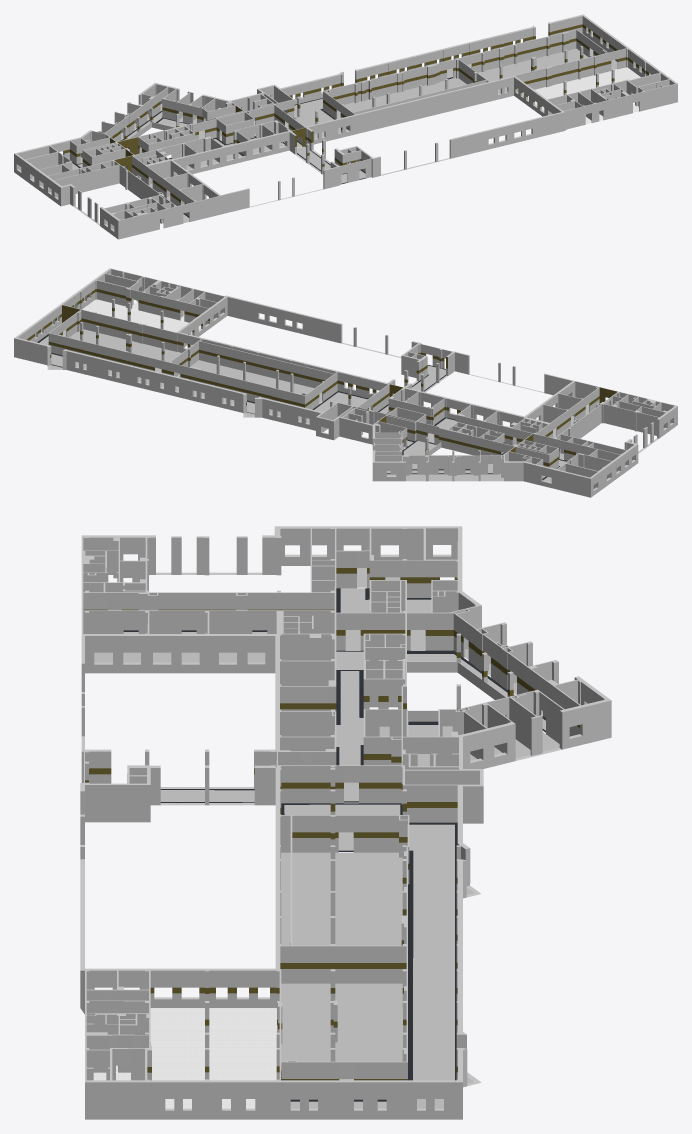
File: Hall_4thFloor.fbx
The picture shows the model from 3 angles, top to bottom: view 1: azimuth 30°, elevation 25°; view 2: azimuth 150°, elevation 25°; view 3: azimuth 270°, elevation 25°; orthographic projection. The views are drawn at different scales.
Parts seen in each view (by area): view 1: Plane; view 2: Plane; view 3: Plane.
Part boxes in pixels (<box>): Plane: <box>14,14,677,239</box>; Plane: <box>14,268,677,497</box>; Plane: <box>80,526,611,1119</box>.
Size of the model in its own units: 13434 by 420 by 5427.
